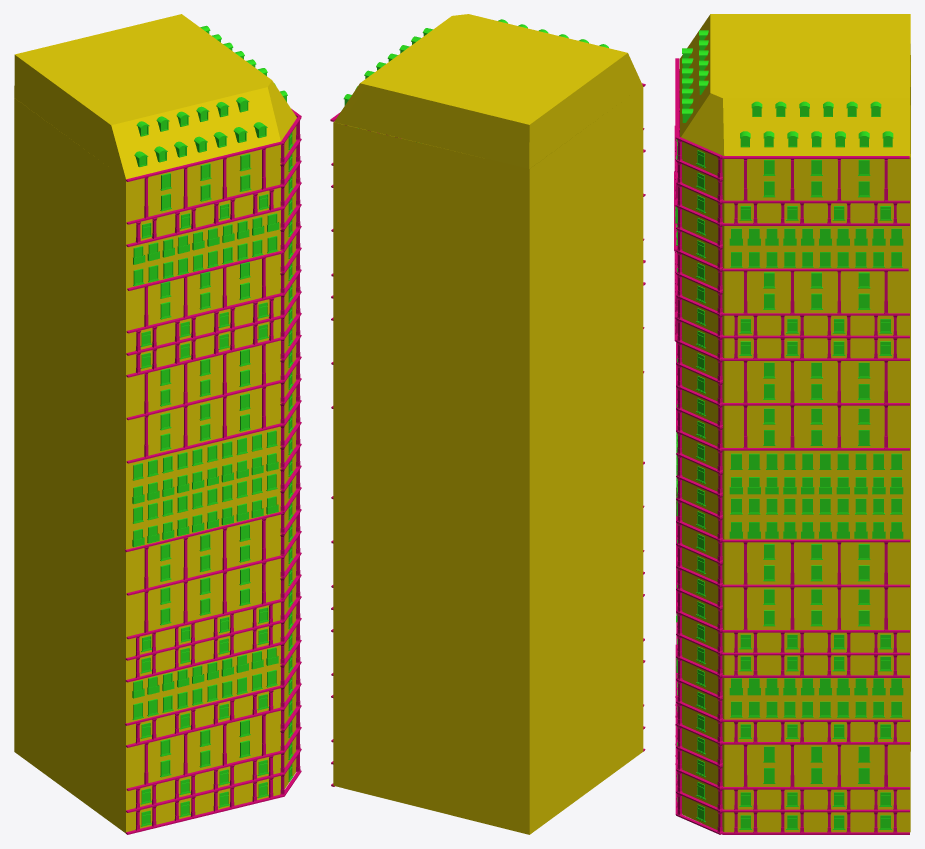
Rendered from Building-3.fbx.
3 renders of one model, left to right at view 1: azimuth 30°, elevation 25°; view 2: azimuth 150°, elevation 25°; view 3: azimuth 270°, elevation 25°, orthographic. The views are drawn at different scales.
Visible parts, largest first — view 1: Building, Window, Ledge; view 2: Building; view 3: Building, Window, Ledge.
Part boxes in pixels (<box>): Building: <box>14,14,296,833</box>; Window: <box>132,25,293,826</box>; Ledge: <box>125,108,301,834</box>; Building: <box>333,14,643,834</box>; Building: <box>679,14,910,832</box>; Window: <box>675,30,903,829</box>; Ledge: <box>674,58,909,834</box>.
Size of the model in its own units: 3769 by 12765 by 3791.
